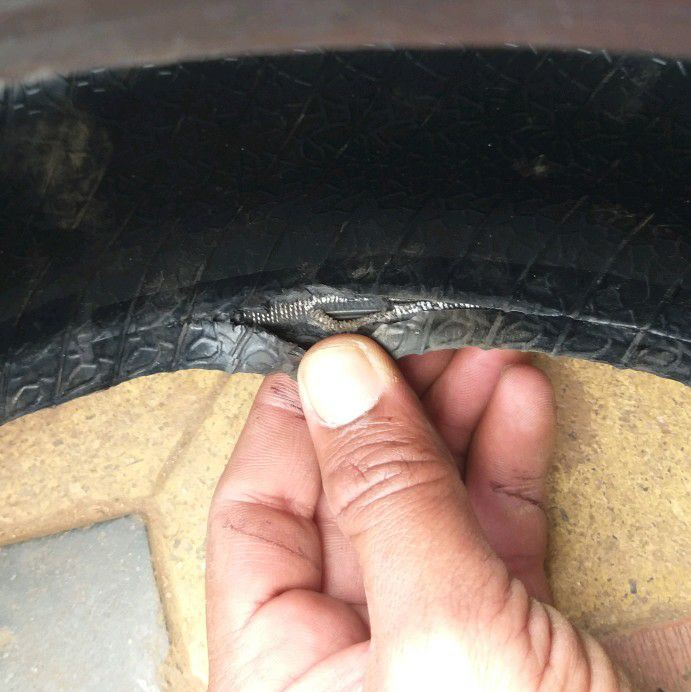bead_damage: (172, 251, 505, 357)
